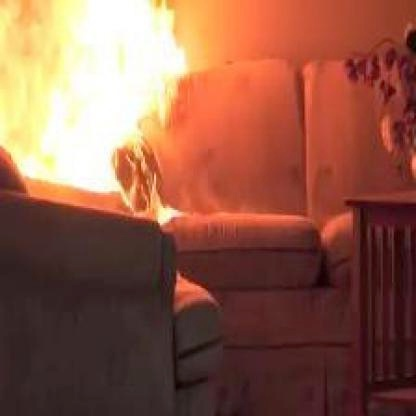fire: (0, 2, 193, 236)
